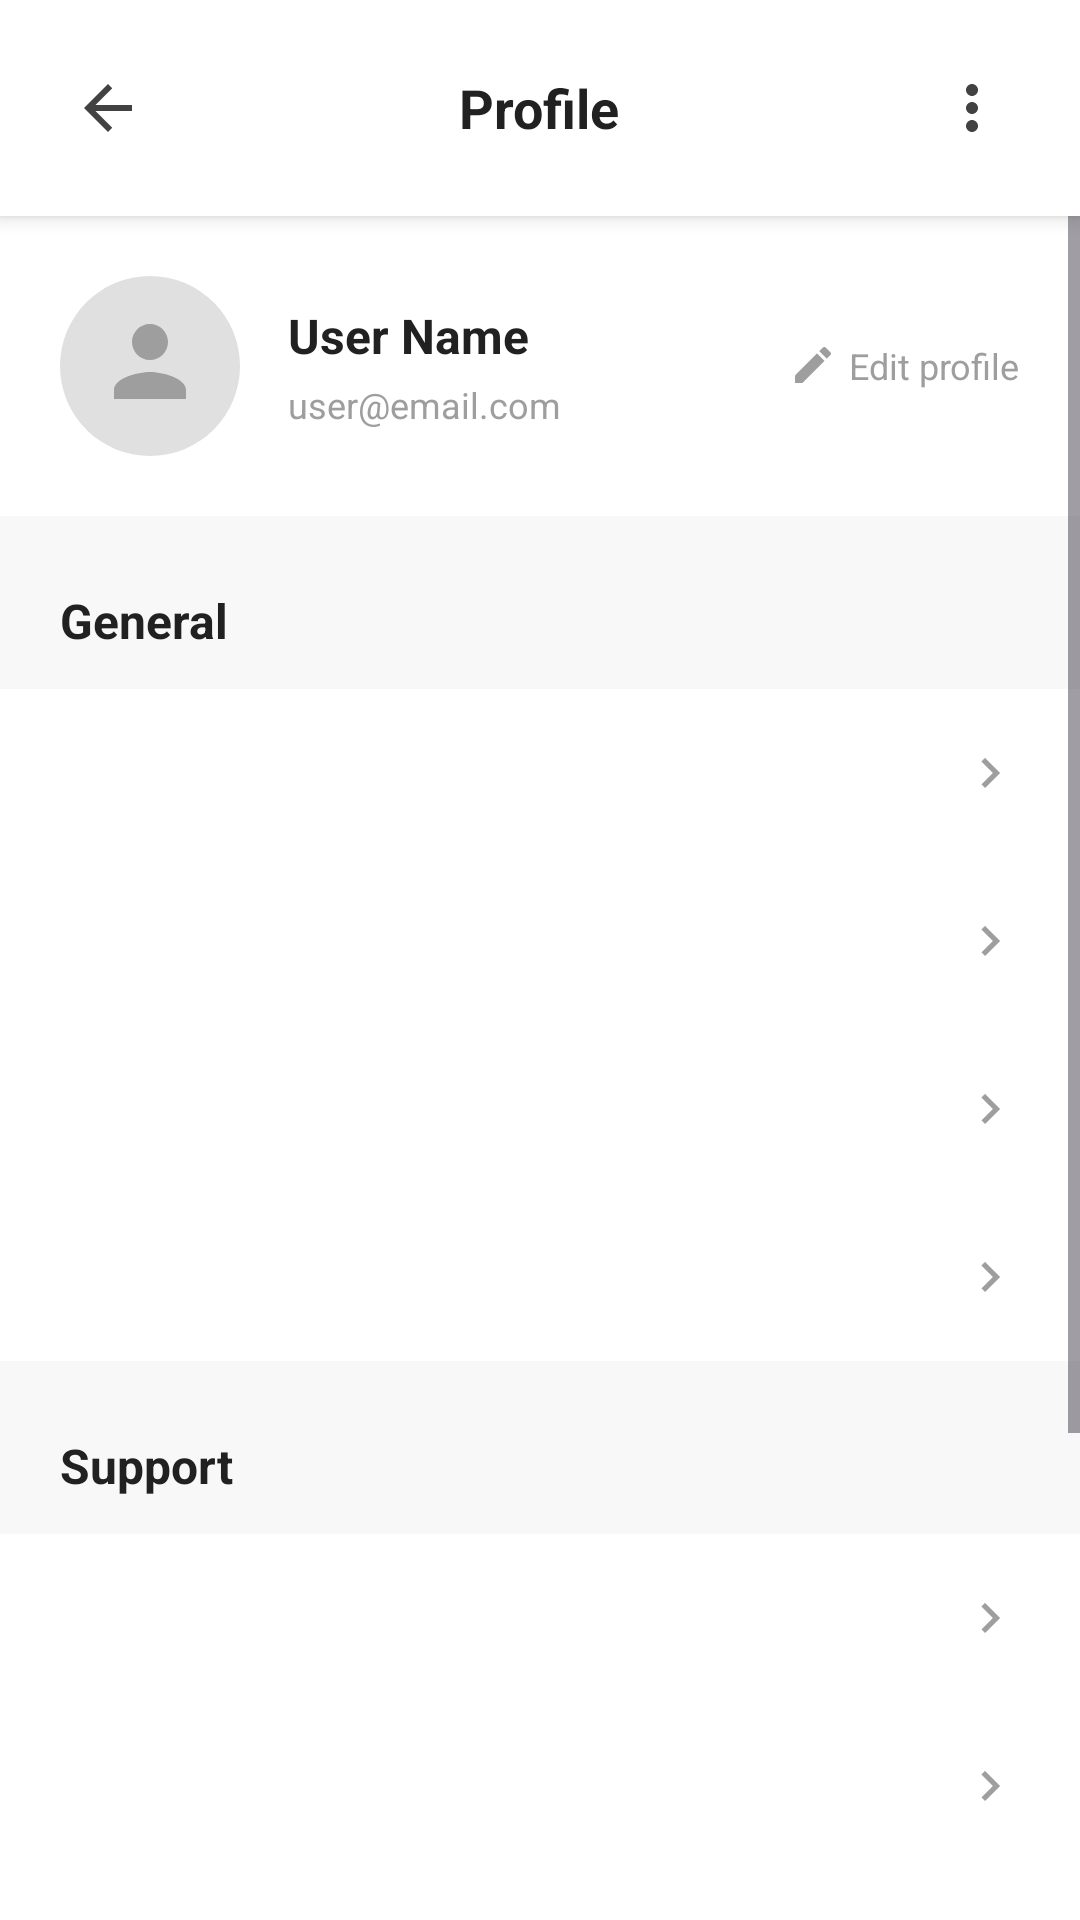

Icon bounding boxes for this 1080*1920 phone screenshot, format region(x1, y1, x2, y2):
arrow right: region(981, 758, 1000, 788), region(981, 926, 1000, 956), region(981, 1094, 1000, 1124), region(981, 1262, 1000, 1292), region(981, 1603, 1000, 1633), region(981, 1771, 1000, 1801)
Back: region(84, 84, 132, 132)
menu: region(966, 84, 978, 132)
